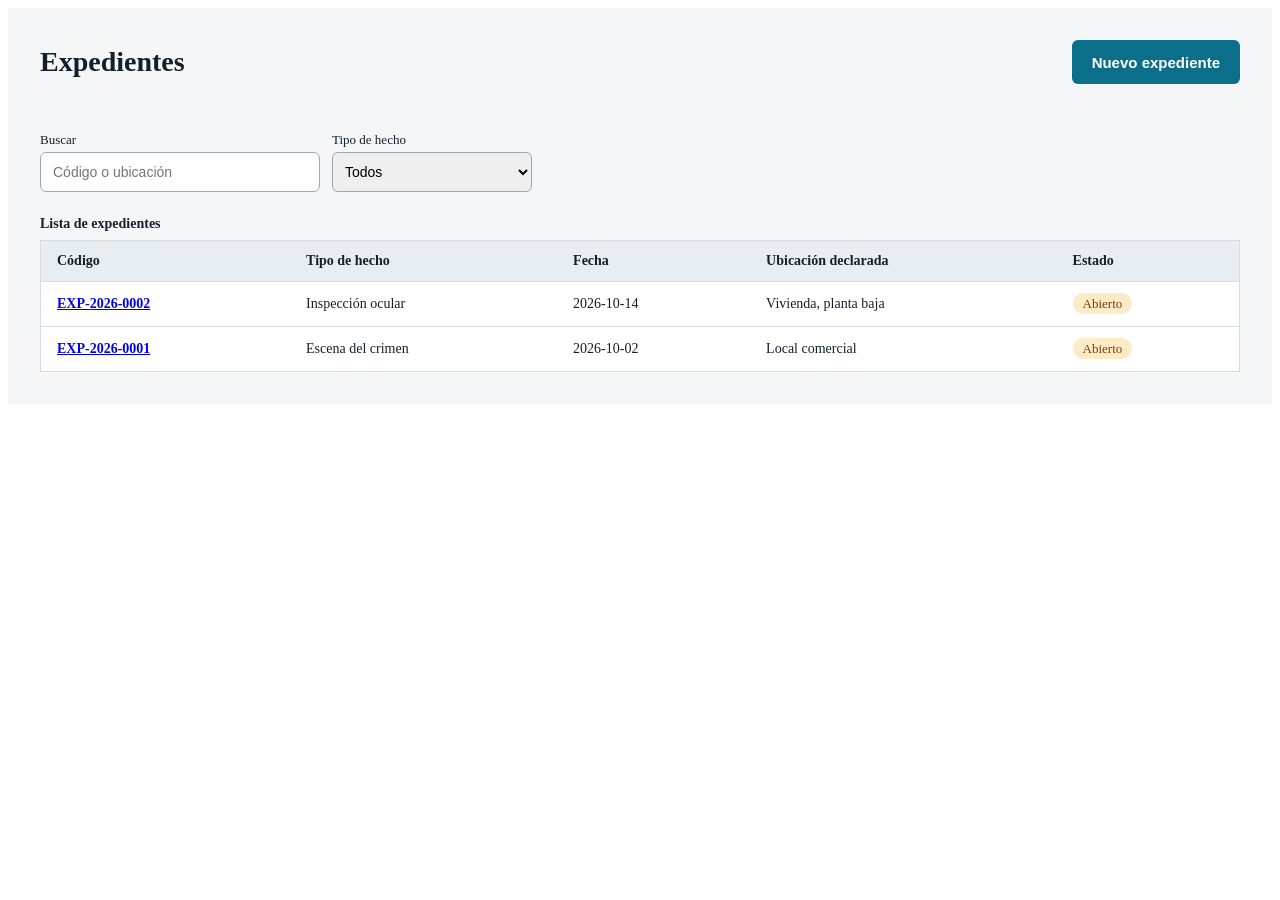
it: CaseListPage › validates required fields before sending any request
The width and height of the screenshot is (1280, 900).
Expected: the table is shown, x1=40 y1=216 x2=1240 y2=372
Click the button "Nuevo expediente": (1156,62) x1=1072 y1=40 x2=1240 y2=84
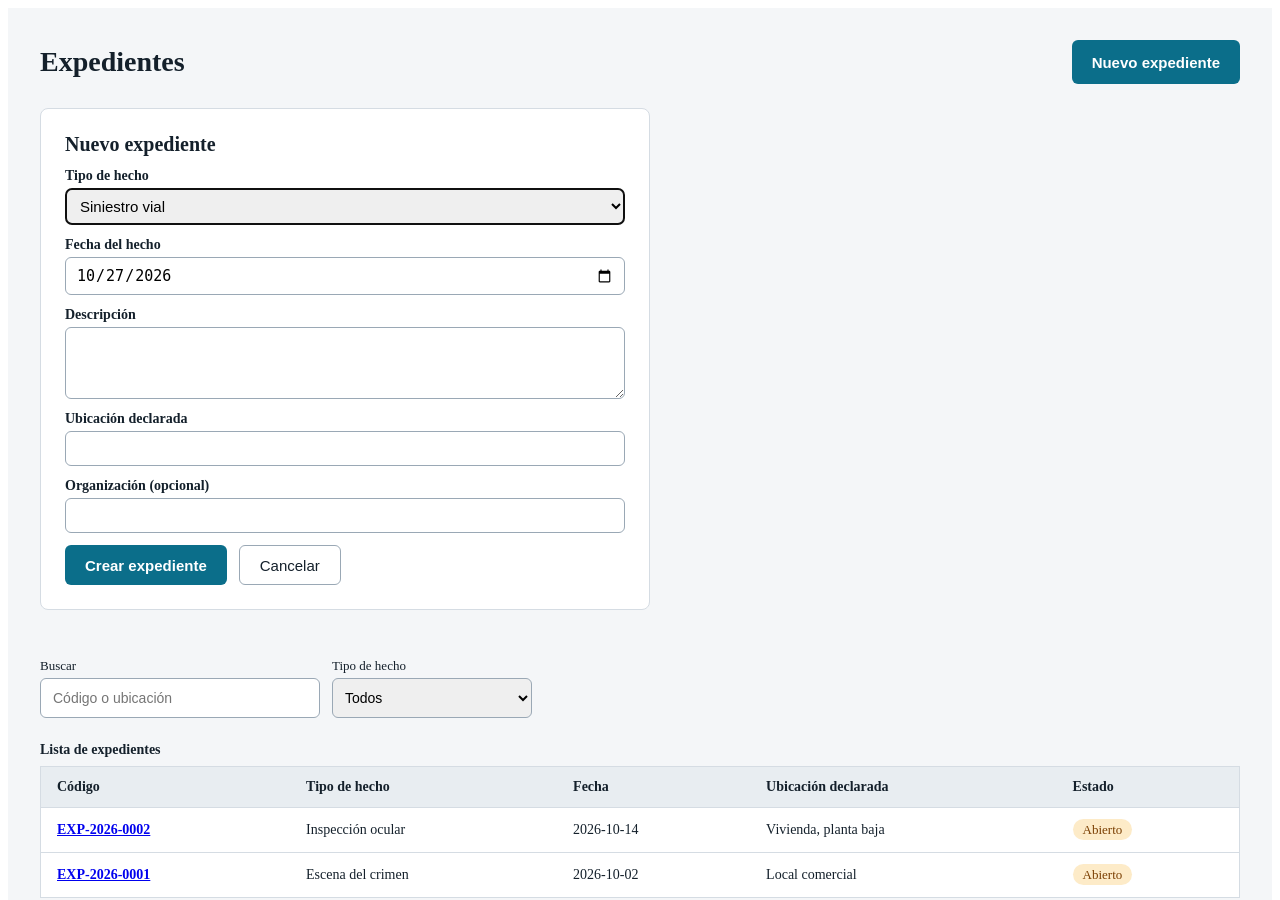
Click the button "Crear expediente": (146,565) x1=65 y1=545 x2=227 y2=585
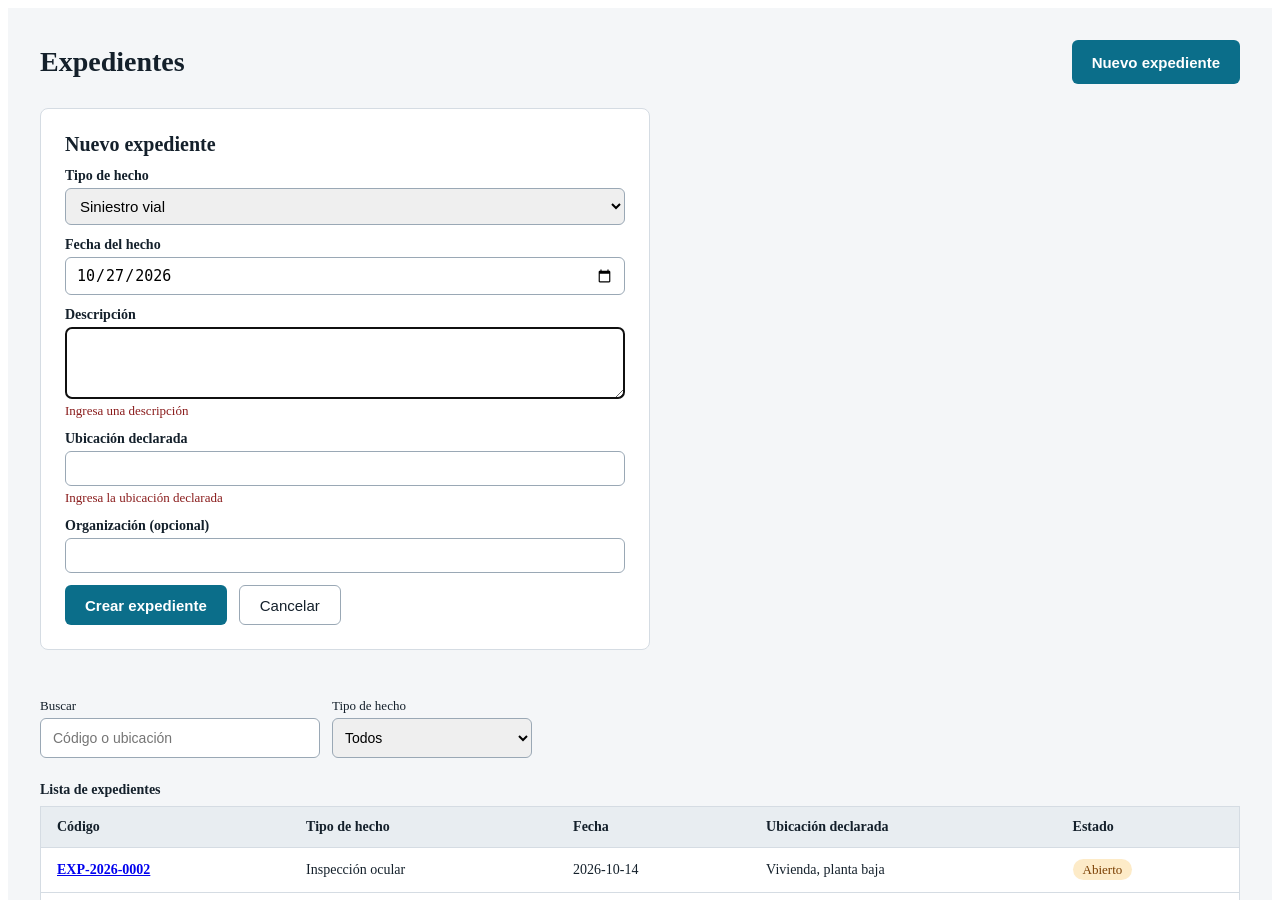
Now the text "Ingresa una descripción" is shown, box x1=65 y1=403 x2=188 y2=418
Now the text "Ingresa la ubicación declarada" is shown, box x1=65 y1=490 x2=223 y2=505
